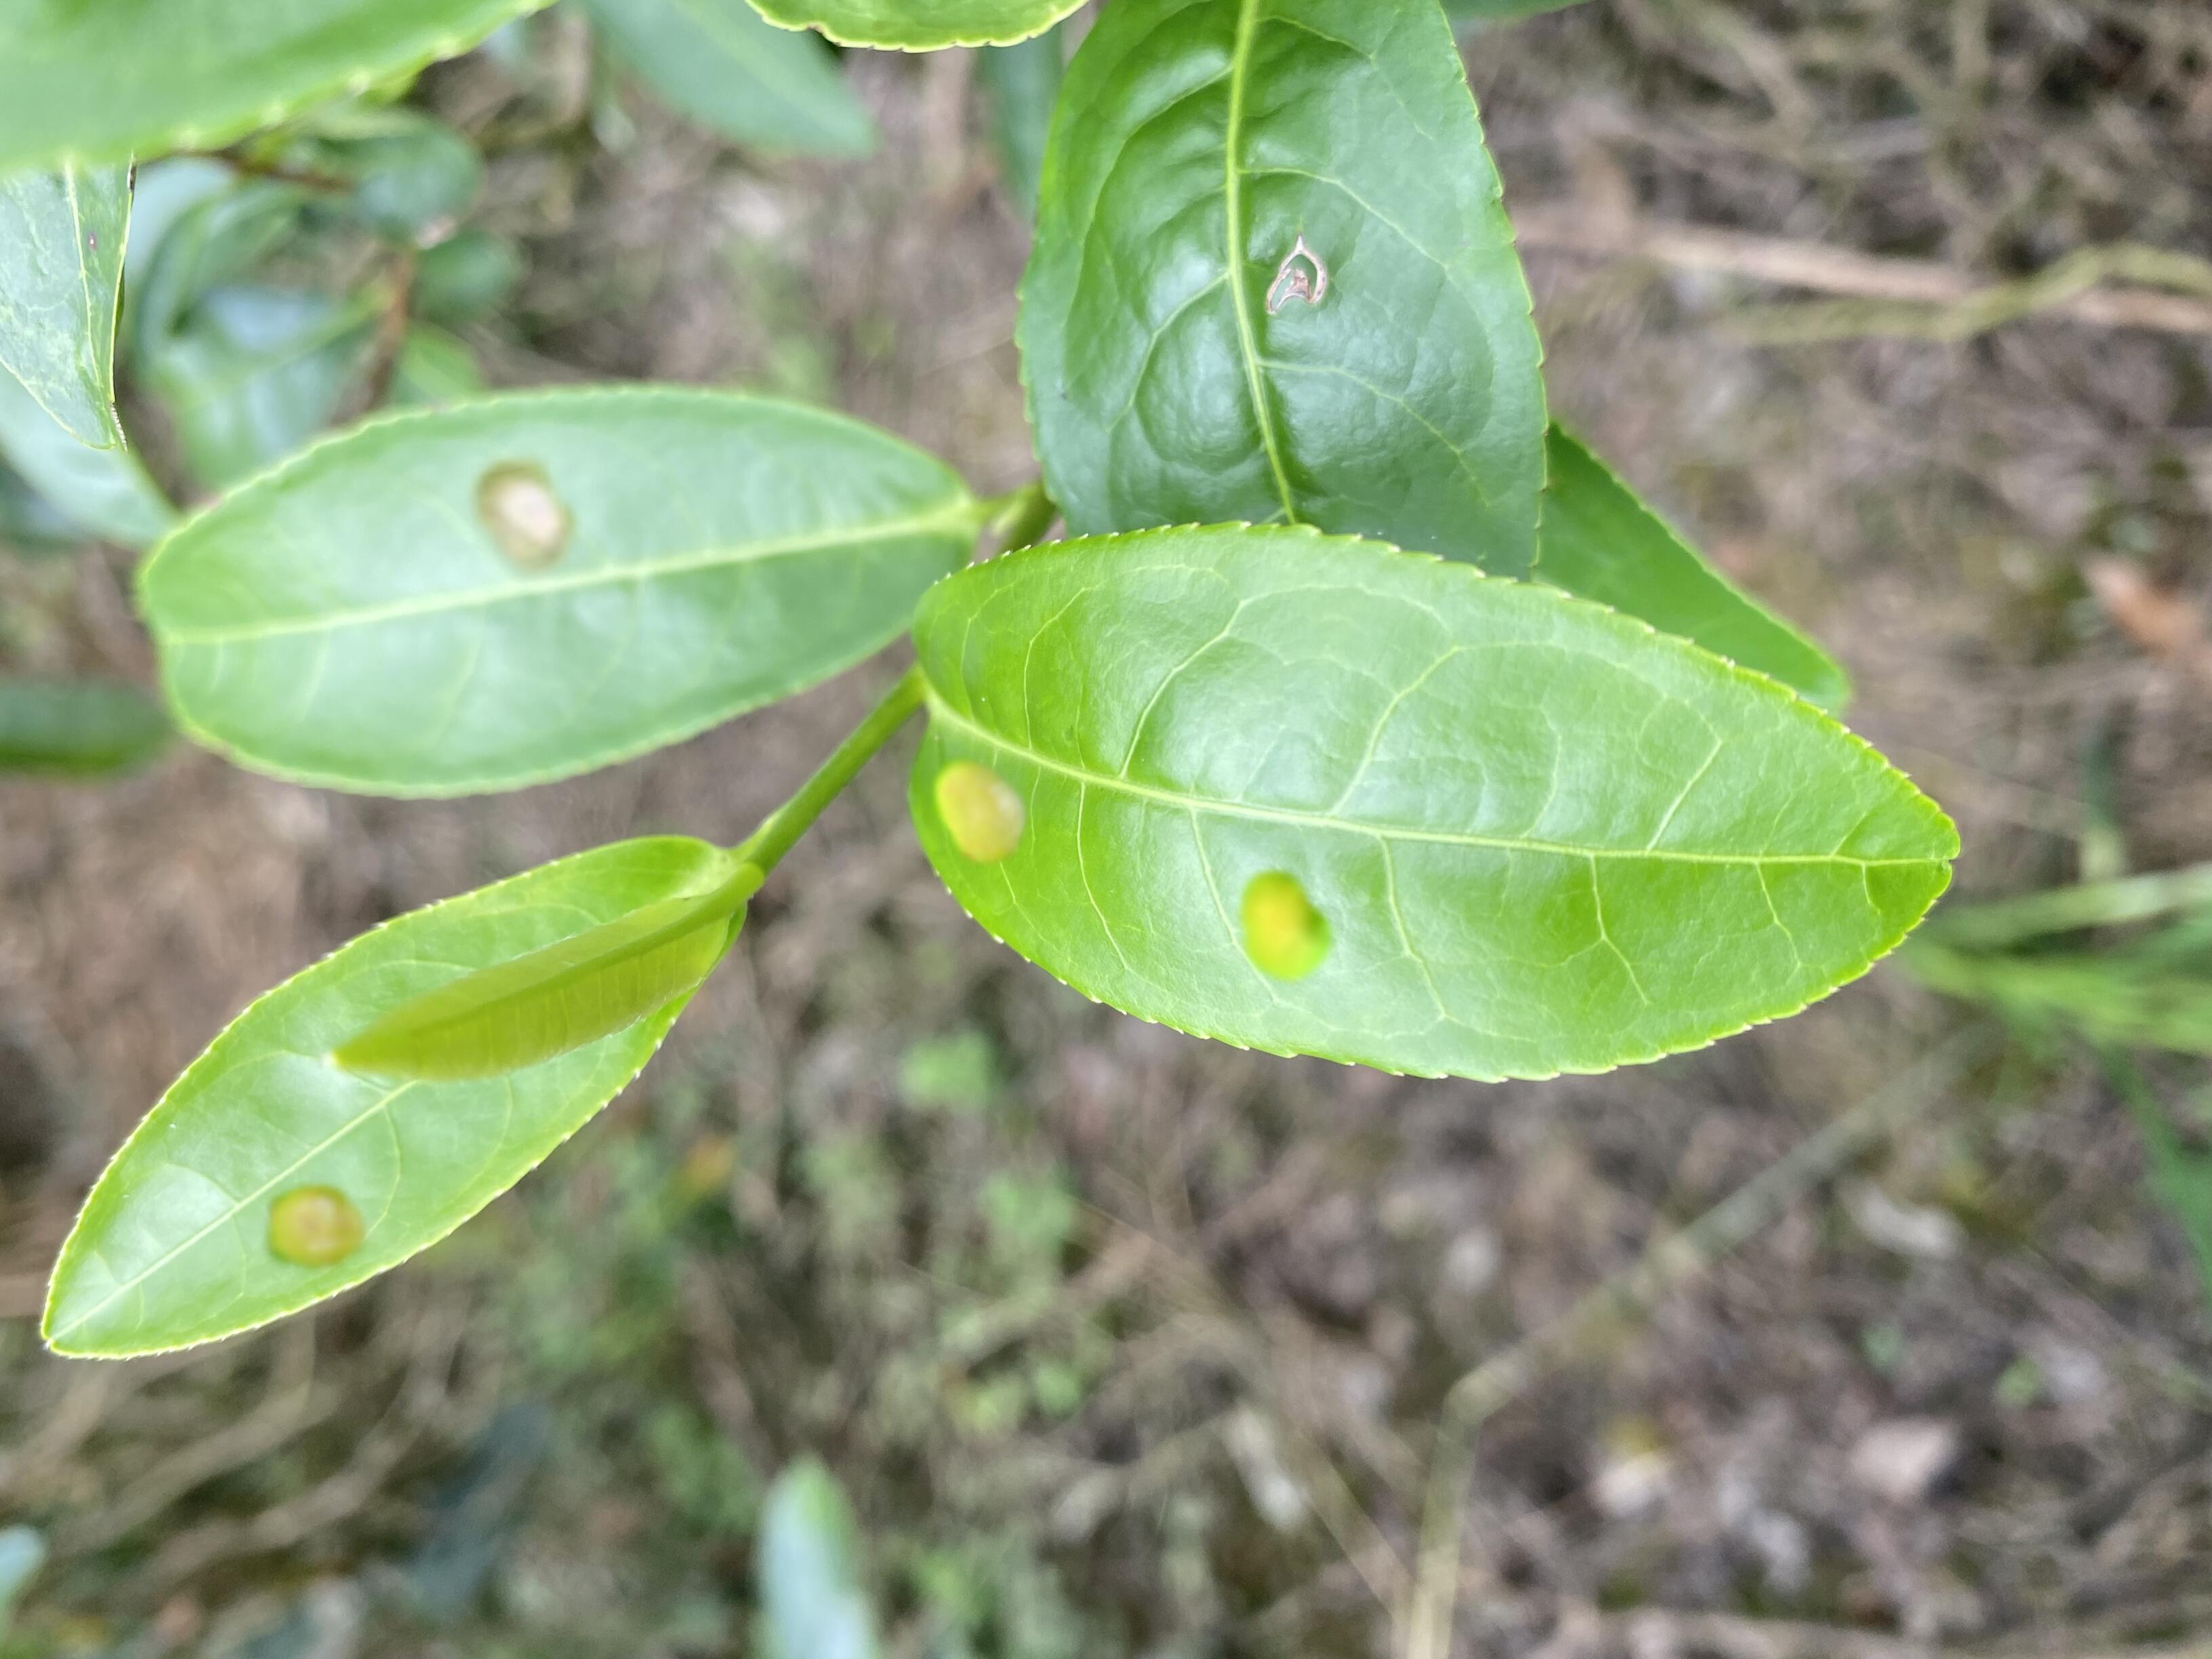chabing_high: (907, 519, 1966, 1086)
chabing_low: (38, 835, 751, 1361), (136, 387, 981, 802)
chihuo_low: (1015, 3, 1550, 566)
healthy: (329, 890, 728, 1086)
